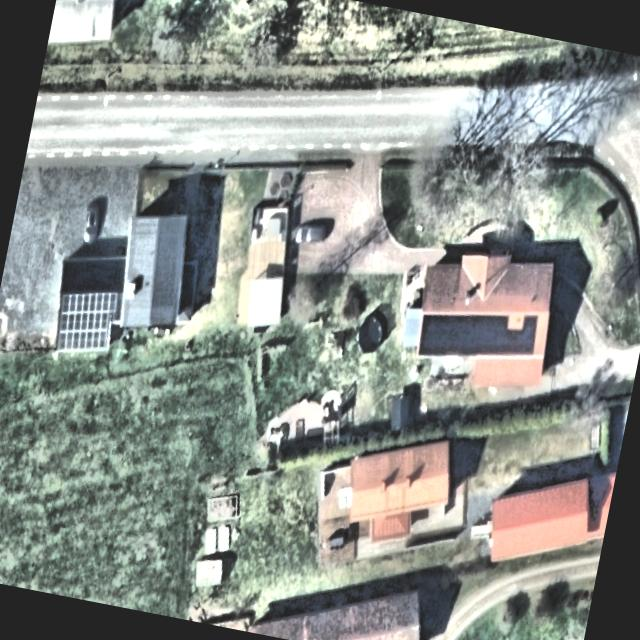roof_pv: (51, 282, 120, 363), (414, 302, 489, 370), (482, 312, 512, 362), (518, 310, 542, 358), (503, 326, 524, 360)
